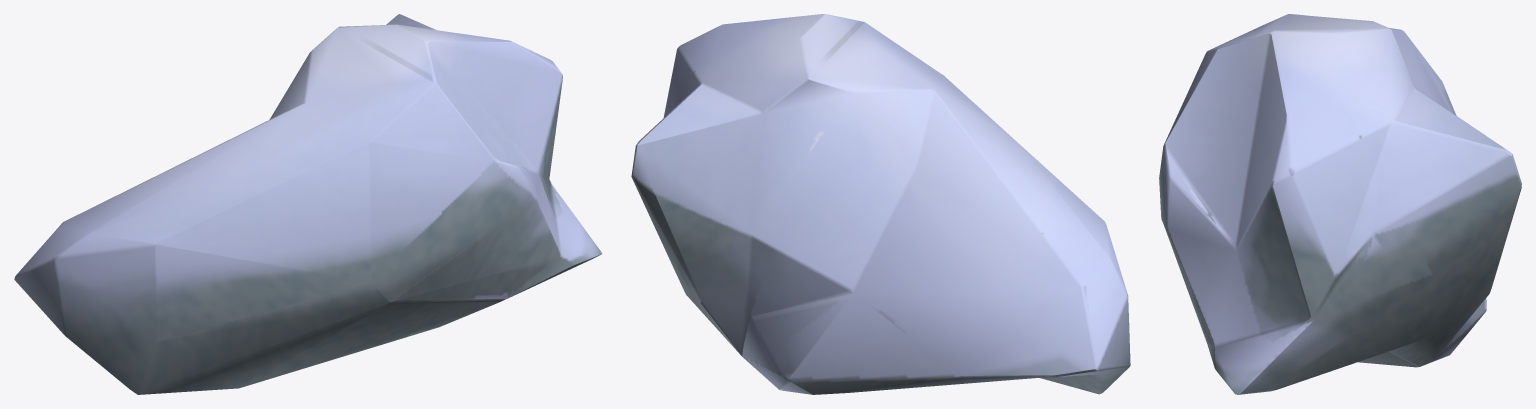
Rendered from Rock5.fbx.
The picture shows the model from 3 angles, left to right: view 1: azimuth 30°, elevation 25°; view 2: azimuth 150°, elevation 25°; view 3: azimuth 270°, elevation 25°; orthographic projection. The views are drawn at different scales.
Visible parts, largest first — view 1: Rock5; view 2: Rock5; view 3: Rock5.
Part boxes in pixels (left/top/right/bottom): Rock5: left=14, top=14, right=602, bottom=394; Rock5: left=631, top=14, right=1130, bottom=394; Rock5: left=1159, top=14, right=1521, bottom=394.
Bounding box in the file's own units: 650 × 376 × 359.
